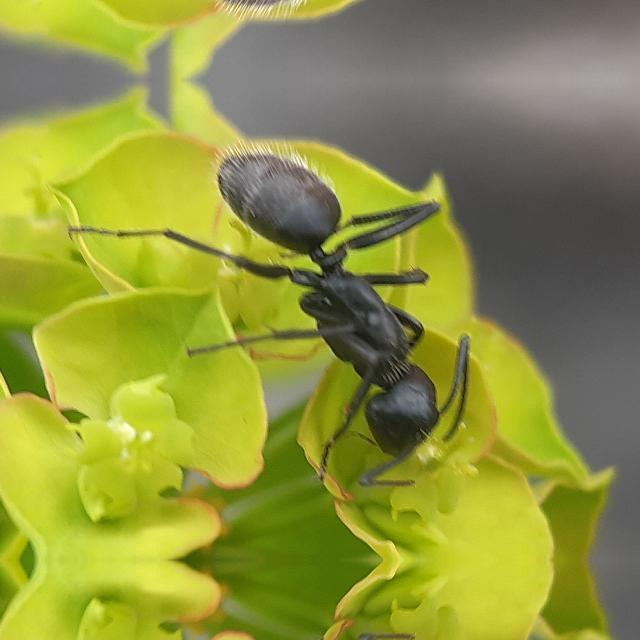Camponotus: (199, 143, 493, 503)
